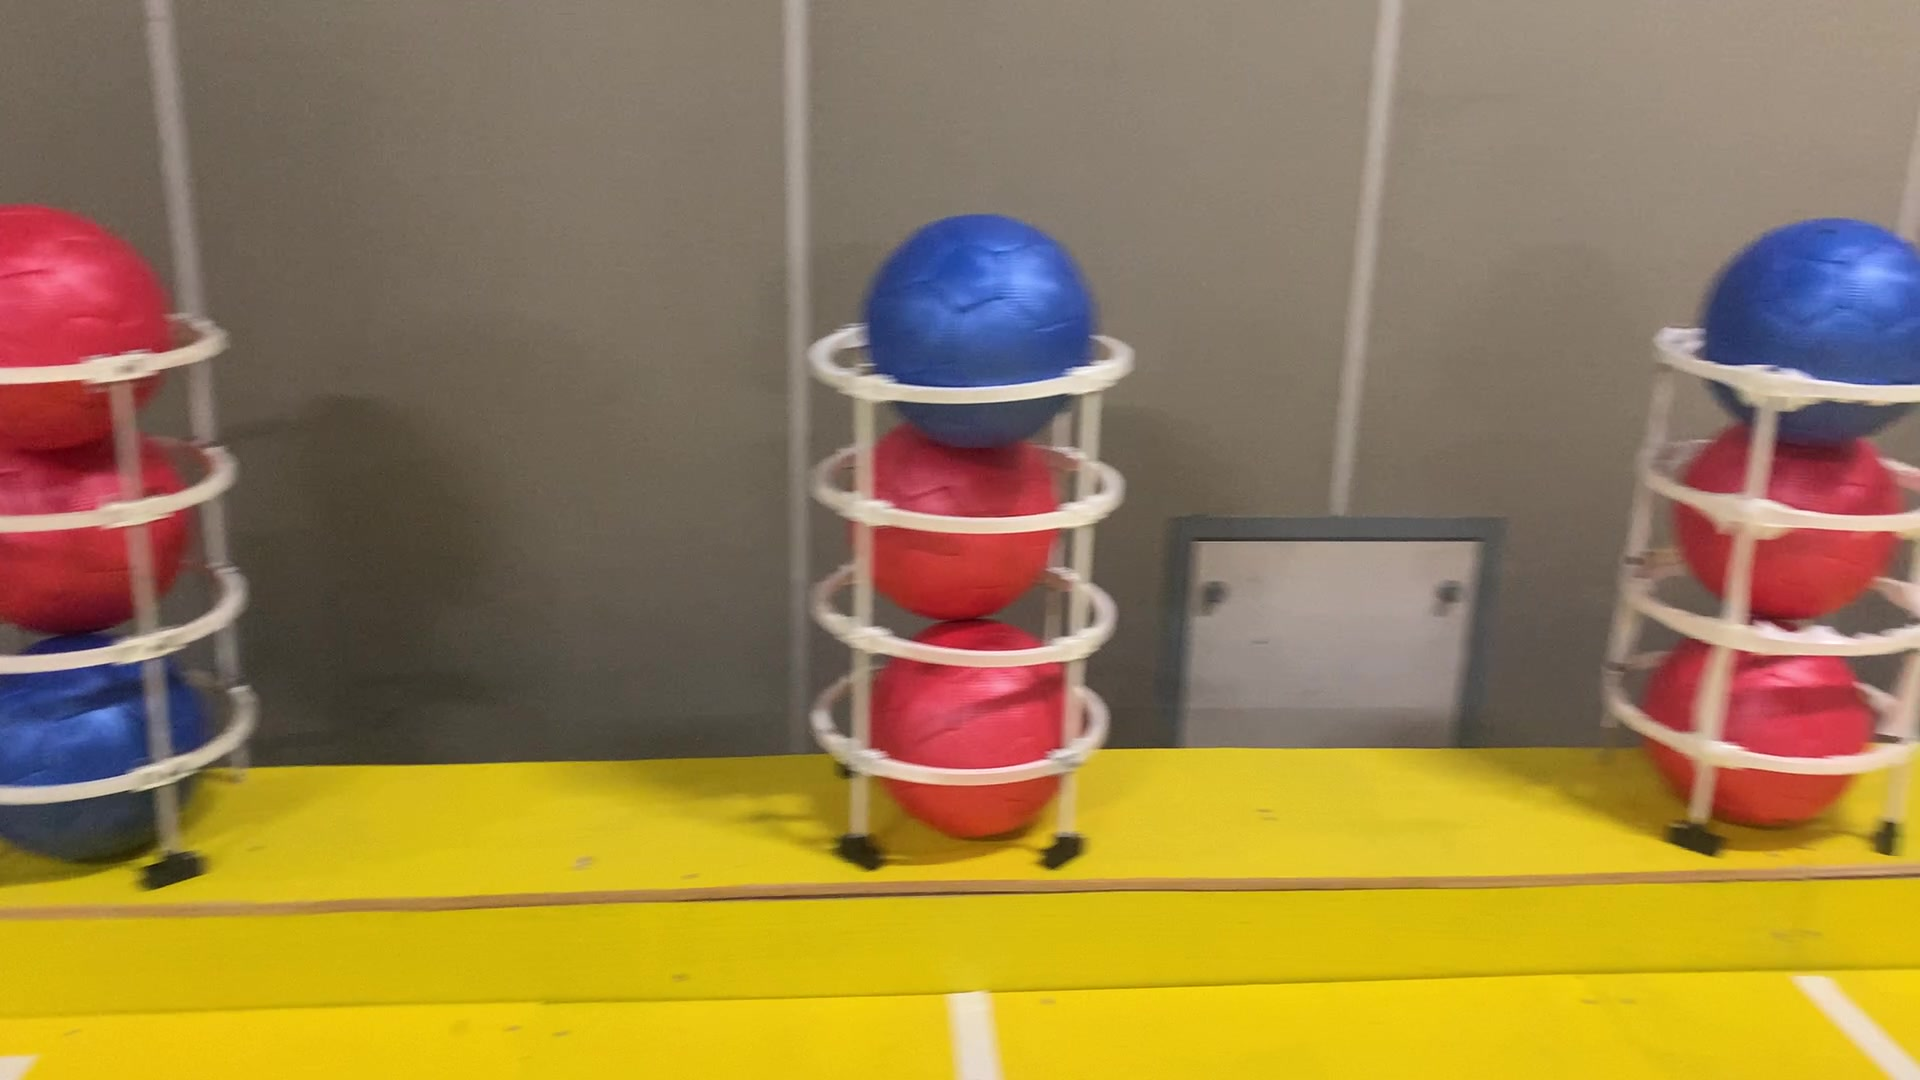blue: (862, 216, 1108, 446), (0, 617, 225, 865), (1706, 211, 1917, 448)
red: (1644, 617, 1879, 832), (1672, 407, 1902, 618), (0, 404, 207, 634), (869, 621, 1085, 835), (0, 186, 161, 467), (848, 418, 1060, 621)
